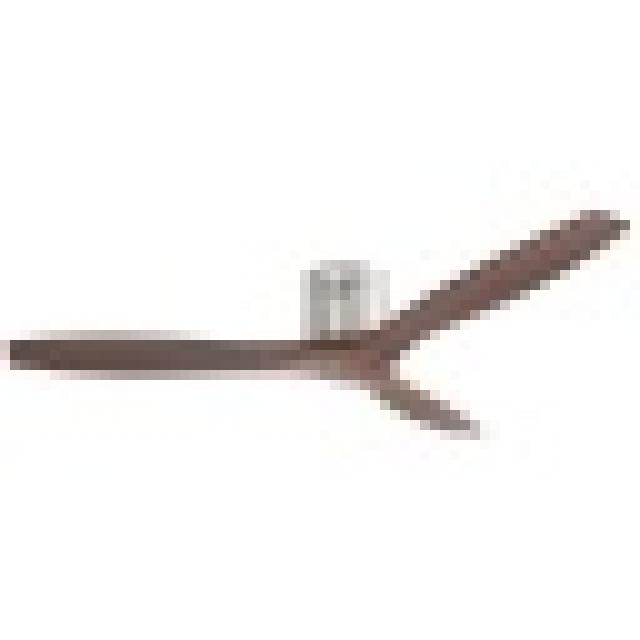Bulb: (16, 131, 640, 487)
